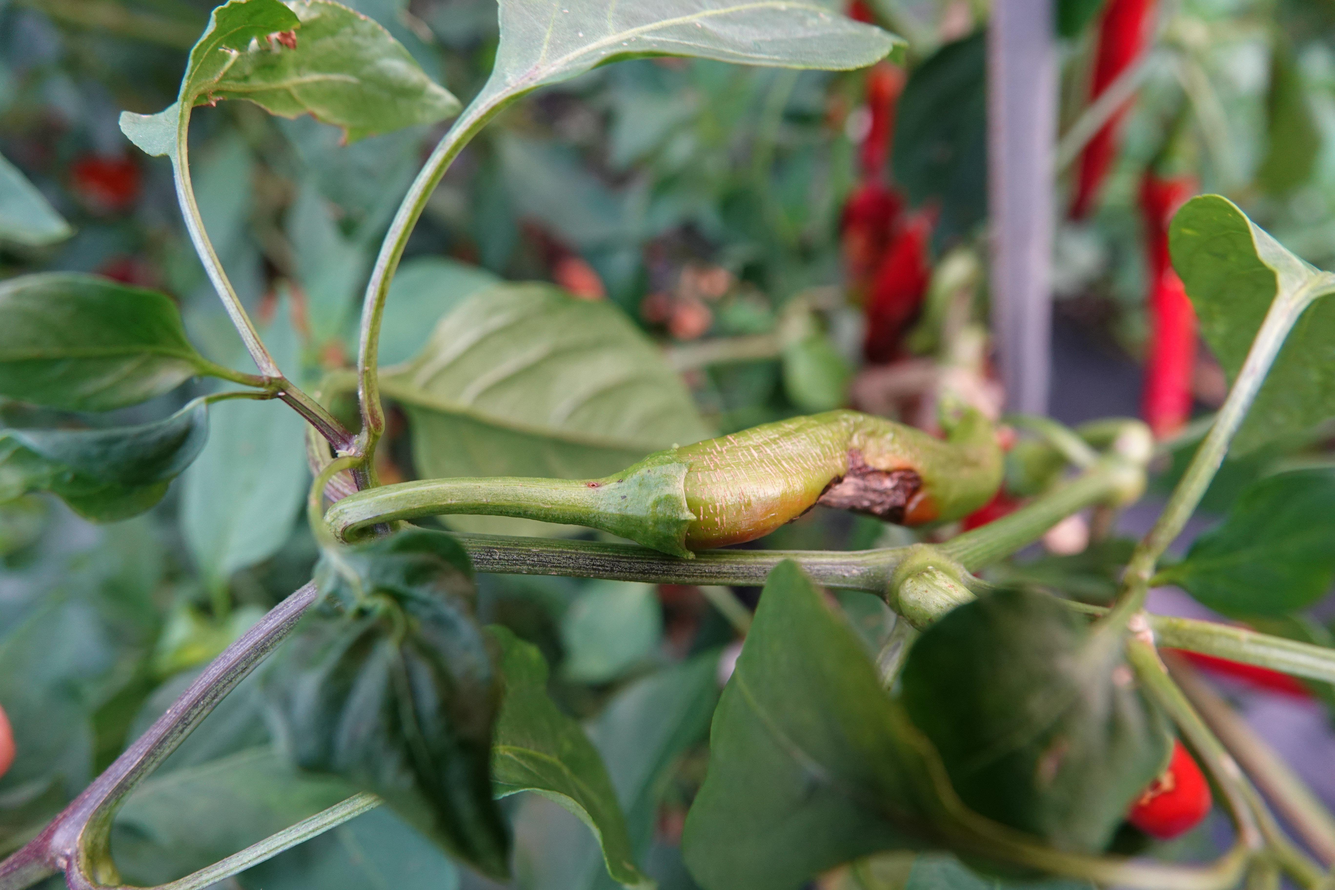Busuk Buah Antraknosa: (583, 400, 1006, 562)
